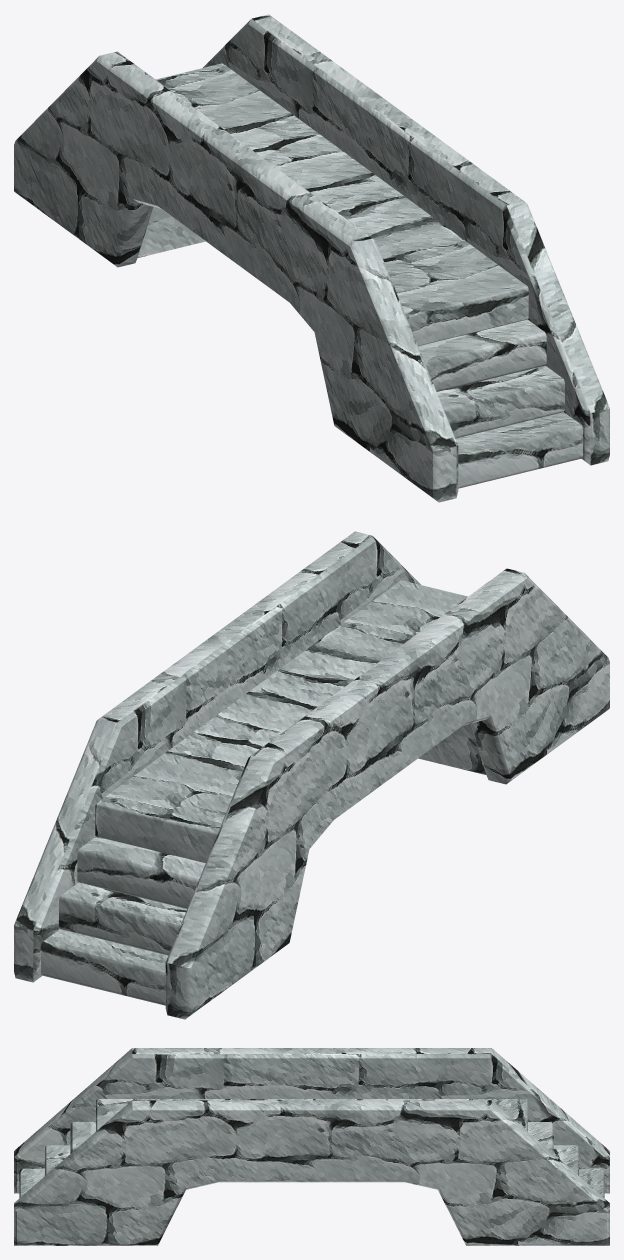
File: SM_Bridge_01 (1).fbx
The picture shows the model from 3 angles, top to bottom: view 1: azimuth 30°, elevation 25°; view 2: azimuth 150°, elevation 25°; view 3: azimuth 270°, elevation 25°; orthographic projection. The views are drawn at different scales.
Parts seen in each view (by area): view 1: SM_Bridge_01; view 2: SM_Bridge_01; view 3: SM_Bridge_01.
Boxes of the visible parts, x1,y1,x2,y2 form: SM_Bridge_01: (14, 14, 609, 502); SM_Bridge_01: (14, 531, 609, 1019); SM_Bridge_01: (14, 1048, 609, 1245).
Size of the model in its own units: 28.01 by 30 by 116.
